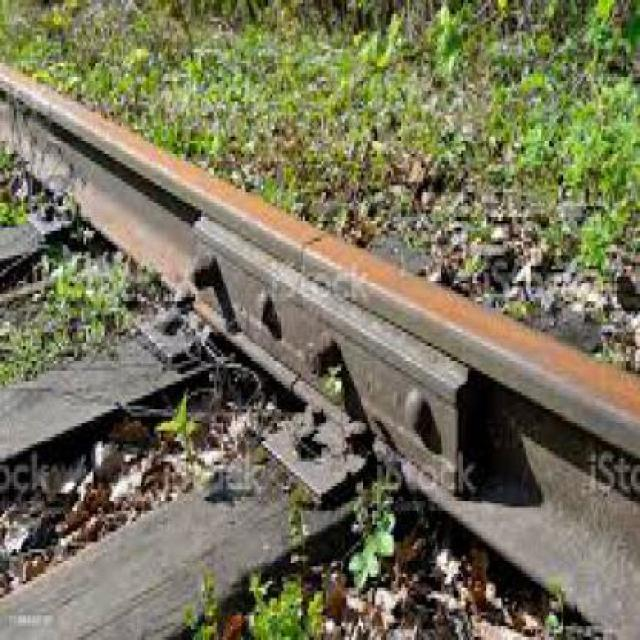defective: (0, 166, 640, 638)
